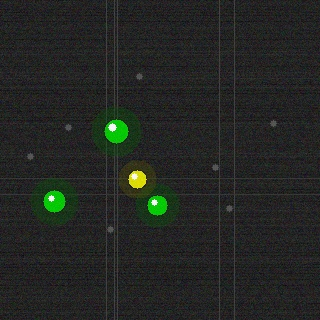green_normal: (102, 117, 130, 145), (41, 188, 67, 214), (145, 193, 169, 217)
yellow_warning: (126, 168, 148, 190)
